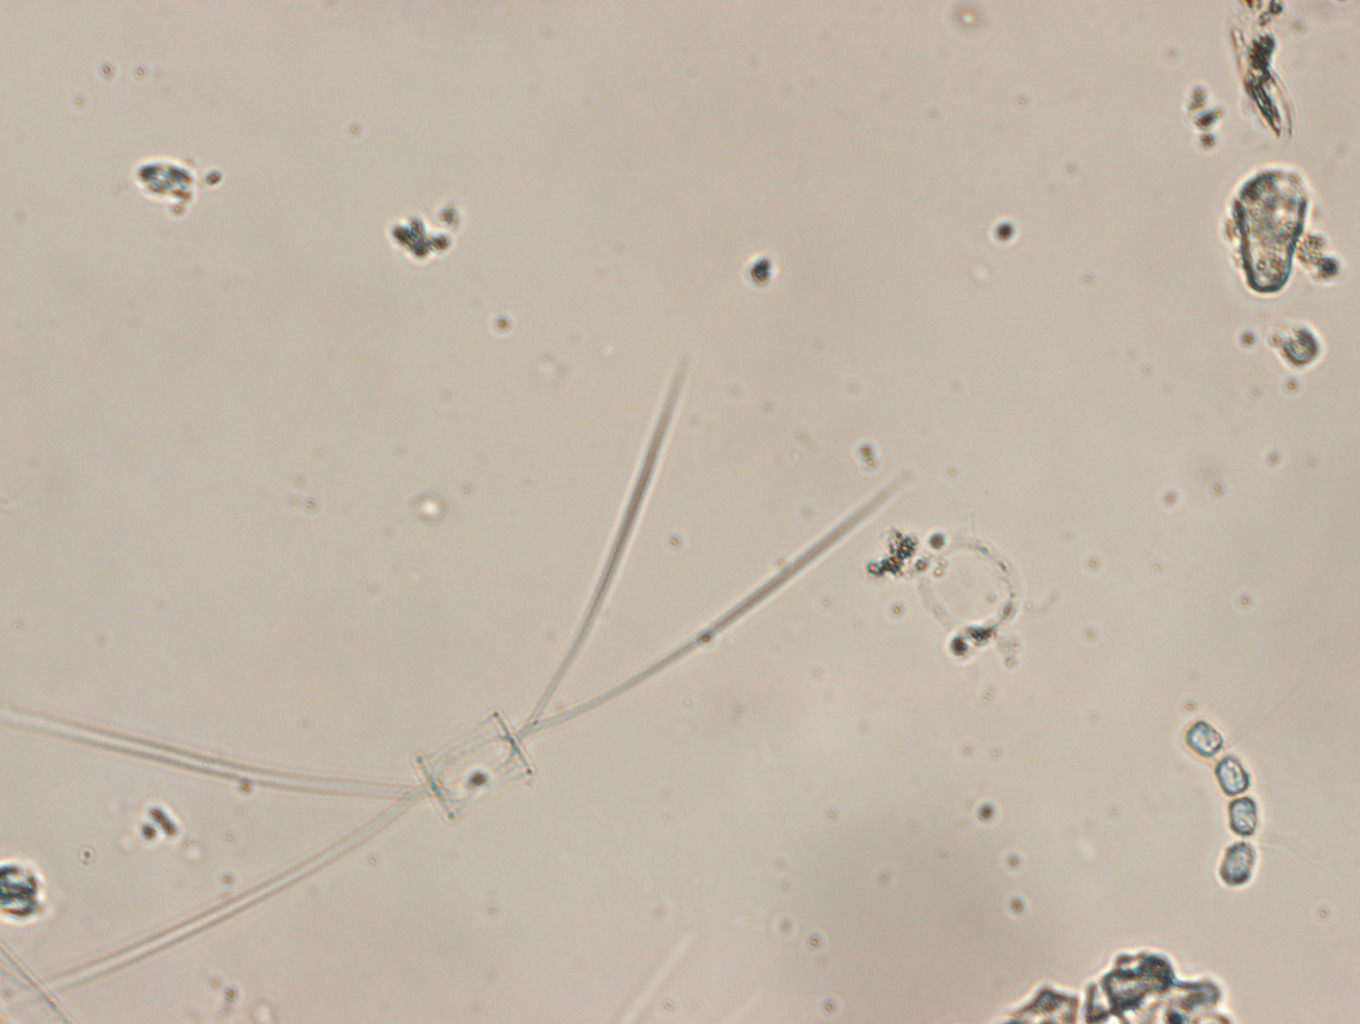chaetoceros: (1, 353, 913, 1005), (1179, 717, 1305, 888)
